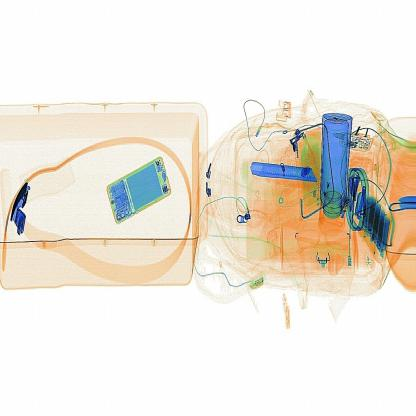pliers: (242, 153, 320, 199)
